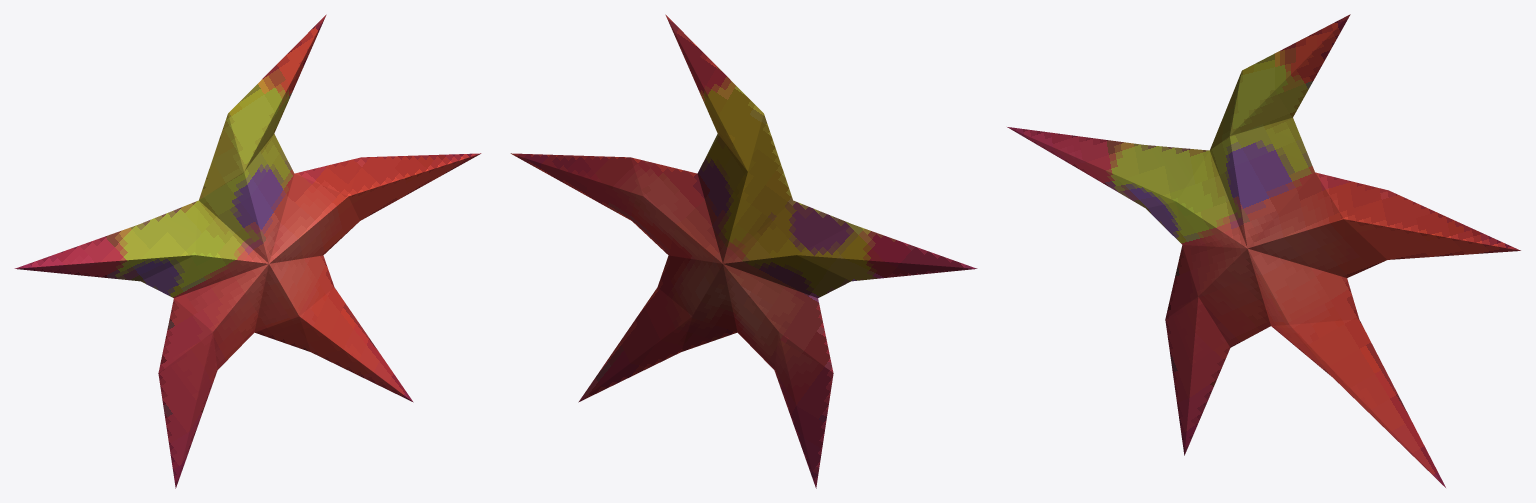
Rendered from item_bait_starfish.glb.
3 renders of one model, left to right at view 1: azimuth 30°, elevation 25°; view 2: azimuth 150°, elevation 25°; view 3: azimuth 330°, elevation 25°, orthographic. The views are drawn at different scales.
Parts seen in each view (by area): view 1: Bait_starfish; view 2: Bait_starfish; view 3: Bait_starfish.
Boxes of the visible parts, x1,y1,x2,y2 form: Bait_starfish: [14, 14, 481, 488]; Bait_starfish: [510, 14, 977, 488]; Bait_starfish: [1007, 14, 1520, 487].
Size of the model in its own units: 0.1917 by 0.1717 by 0.0256.
1 material, 1 textured.
